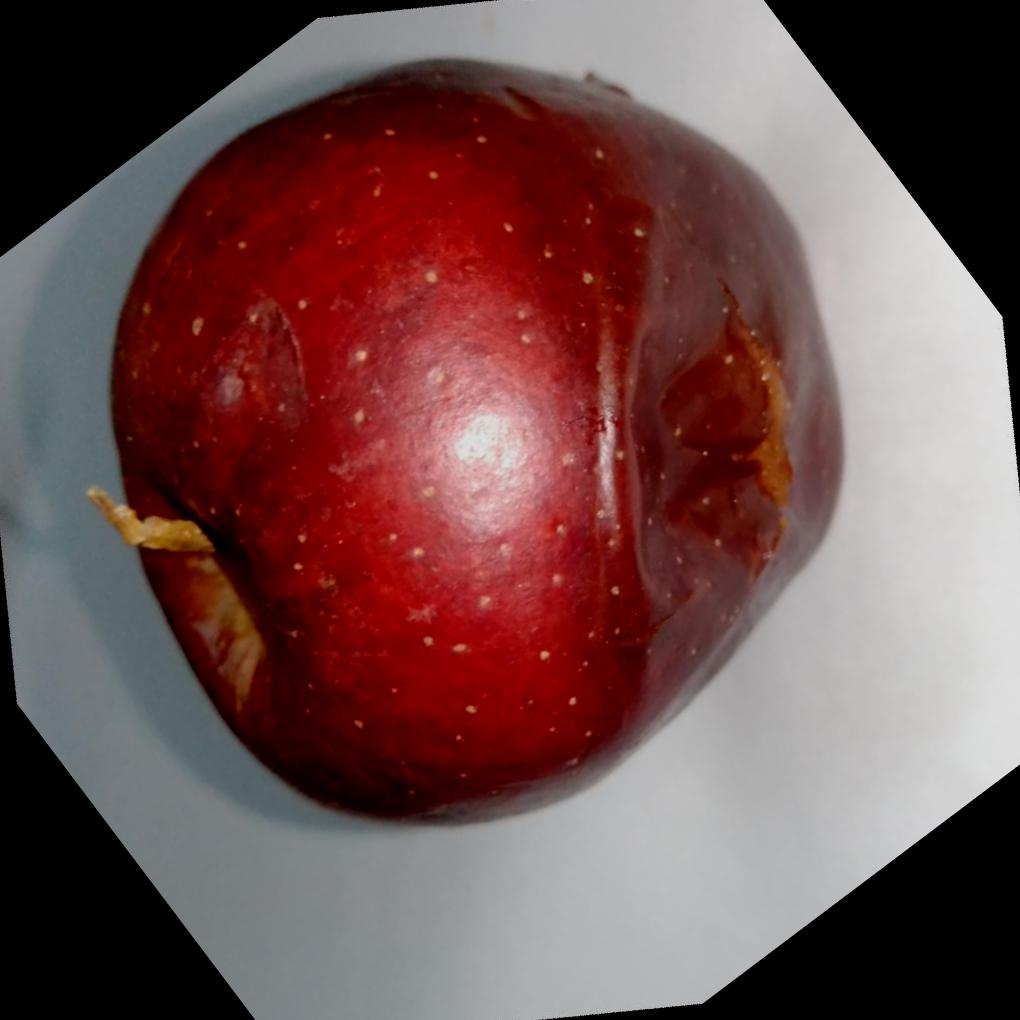FreshOrange: (89, 54, 853, 828)
